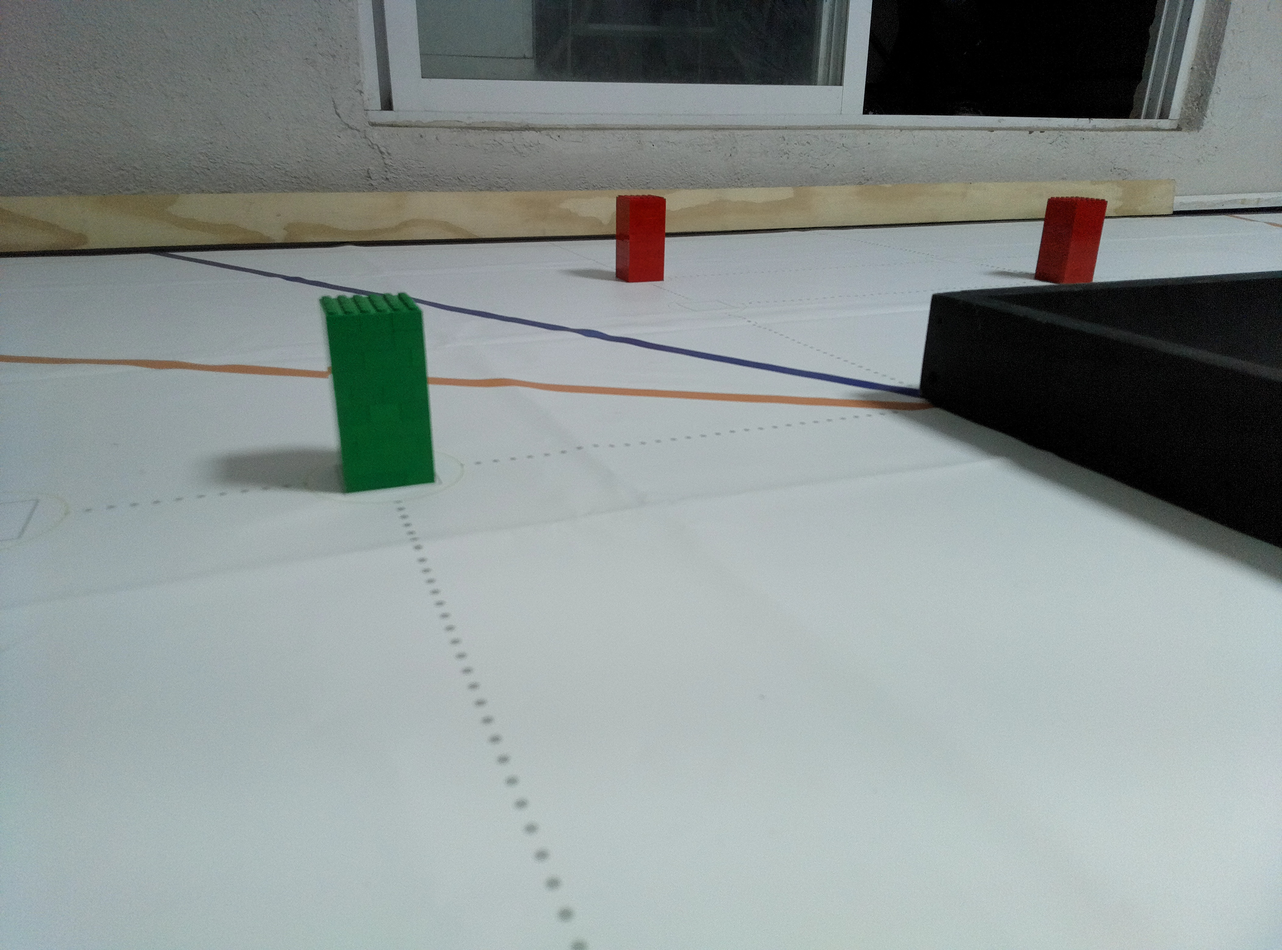greenbox: (317, 293, 436, 496)
redbox: (1032, 196, 1108, 285), (615, 193, 667, 283)
